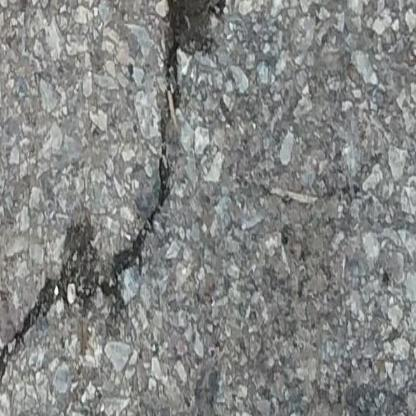Cracks: (0, 0, 230, 416)
